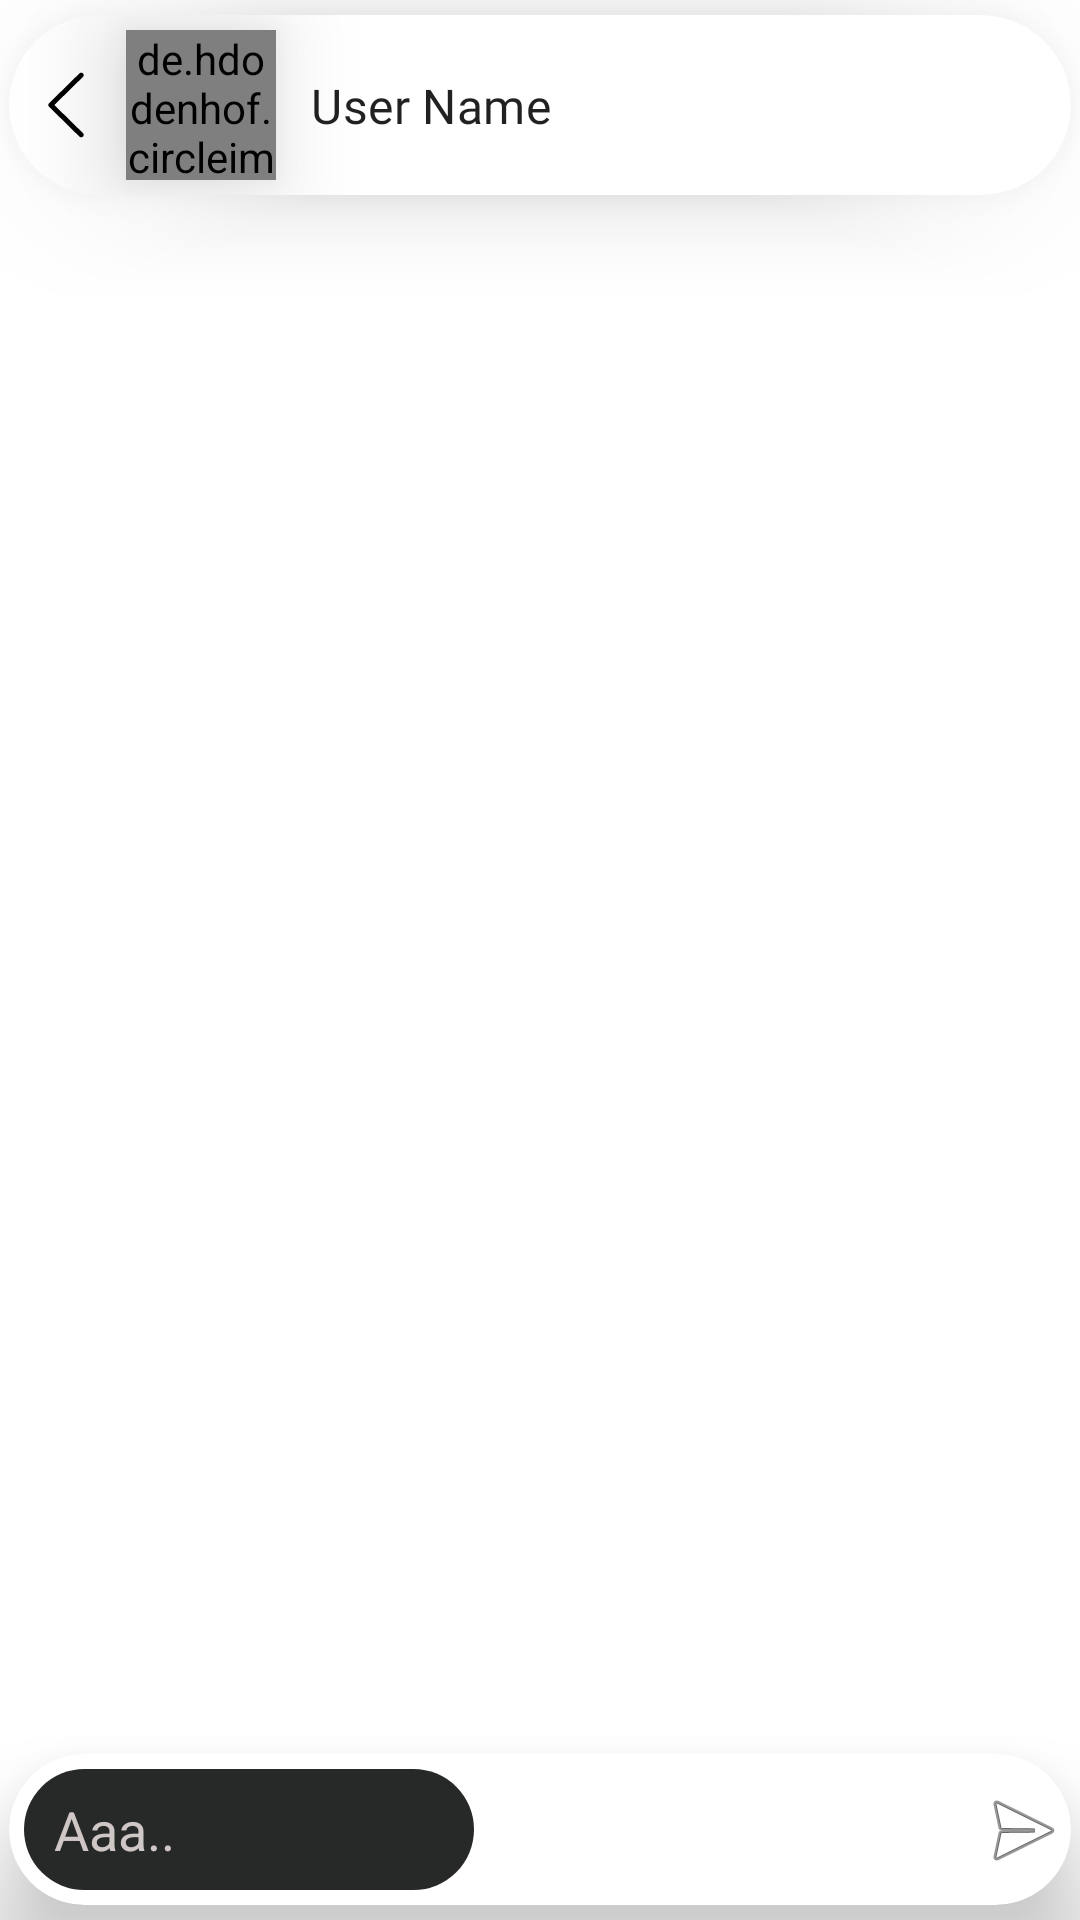

Where to tap for icons on this 1080*1920 app screen, as (x=x, y=y):
iosback: (x=66, y=105)
send: (x=1024, y=1830)
